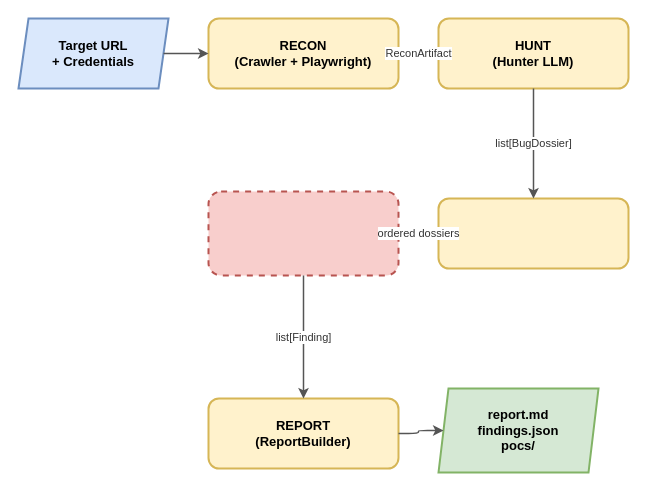
Image size: 646x490. Some labels were removed from this diagram. Here are the shapes that lost their labels. From the top down, the centre of each, then its label:
point 303,233: BUG SUB-GRAPH (per-bug loop)
point 533,233: COORDINATE (Sort by severity)
